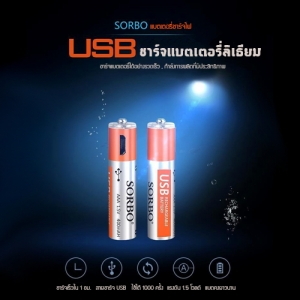Battery: (105, 116, 140, 242), (146, 117, 177, 242)
